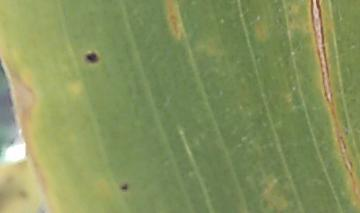tarspot: (84, 51, 100, 64), (119, 182, 129, 193)
